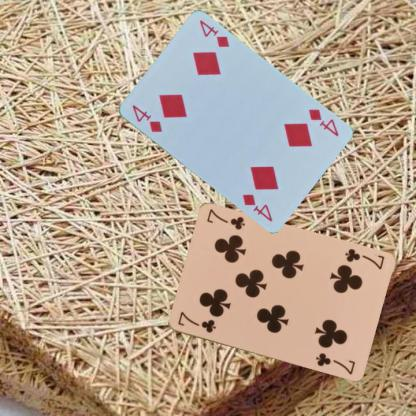4d: (305, 106, 340, 138), (129, 102, 163, 134)
7c: (174, 309, 218, 335), (341, 246, 386, 271)
